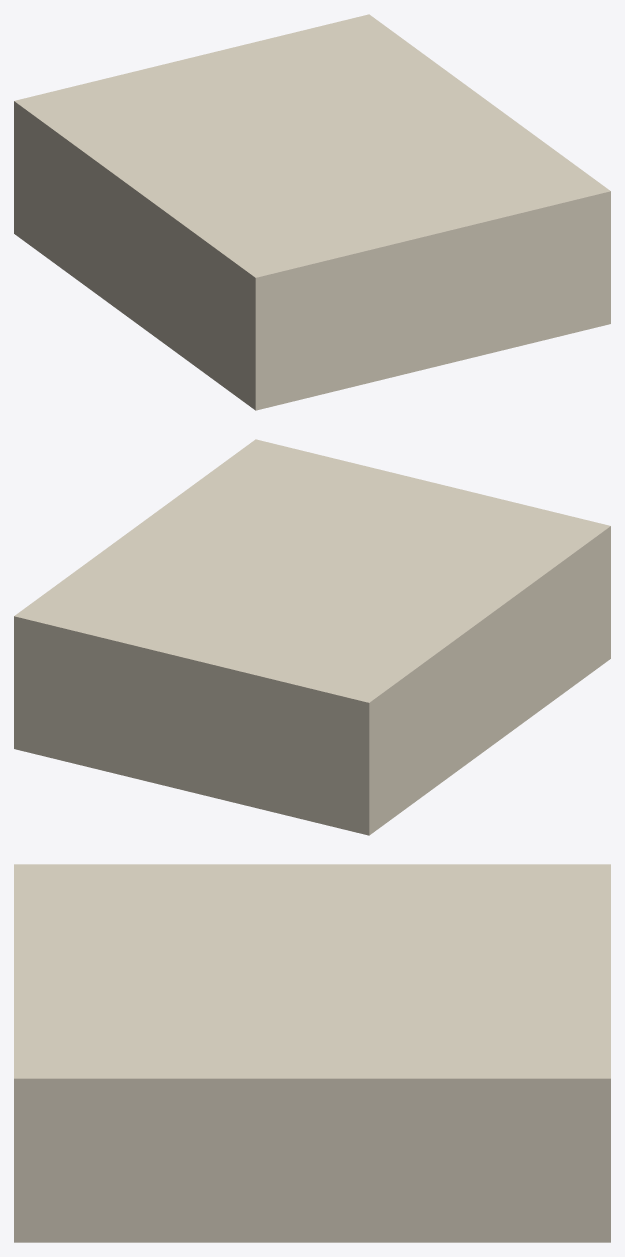
File: pintor_pe.glb
The picture shows the model from 3 angles, top to bottom: view 1: azimuth 30°, elevation 25°; view 2: azimuth 150°, elevation 25°; view 3: azimuth 270°, elevation 25°; orthographic projection. The views are drawn at different scales.
Visible parts, largest first — view 1: pintor_pe; view 2: pintor_pe; view 3: pintor_pe.
Part boxes in pixels (box(x1,y1,x2,y2)): pintor_pe: box(14, 14, 610, 410); pintor_pe: box(14, 439, 610, 835); pintor_pe: box(14, 864, 610, 1242).
Size of the model in its own units: 0.28 by 0.1 by 0.33.
